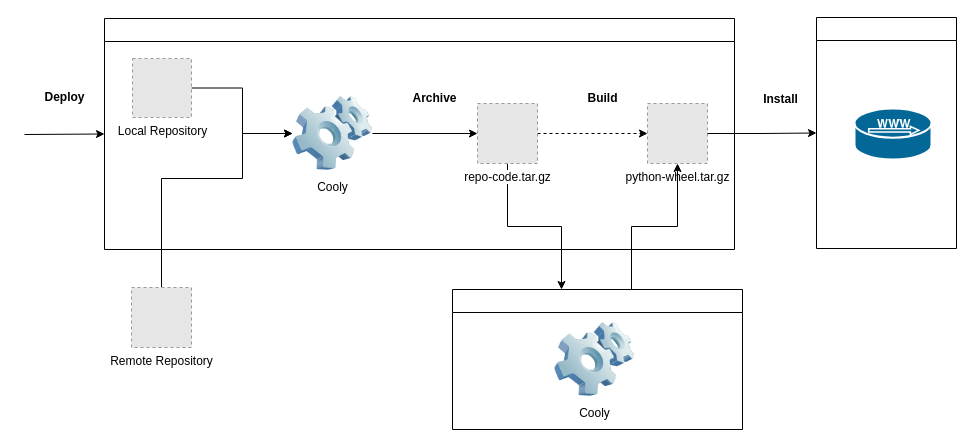
Image size: 974x447. Some labels were removed from this diagram. Grey dashed boxes stand in for pictures. Here are the shapes that lost their labels. From the top down, the box of each, then its label:
(104, 18, 734, 250): Operating Server
(816, 16, 956, 248): Production Server
(452, 288, 742, 430): Building Server
